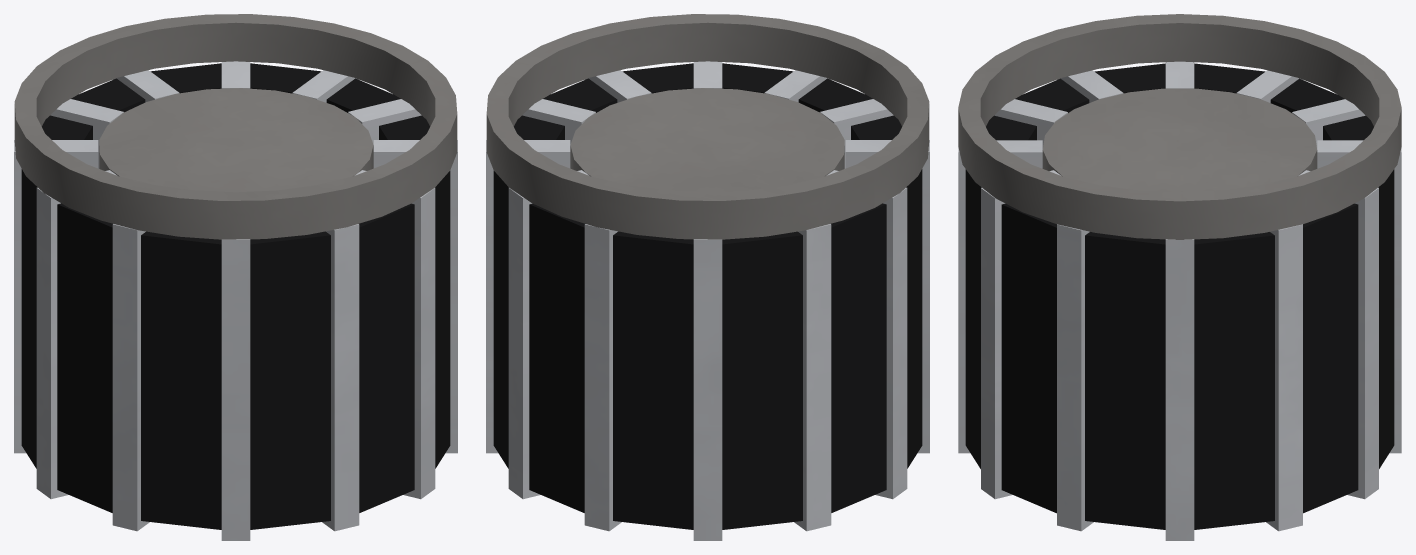
The model's file is stage16_deployable_heat_shield_s.glb.
3 renders of one model, left to right at view 1: azimuth 30°, elevation 25°; view 2: azimuth 150°, elevation 25°; view 3: azimuth 270°, elevation 25°, orthographic.
Visible parts, largest first — view 1: fabric_folded, payload_ring, ribs_folded; view 2: fabric_folded, payload_ring, ribs_folded; view 3: fabric_folded, payload_ring, ribs_folded.
Boxes of the visible parts, x1,y1,x2,y2 form: fabric_folded: [21, 63, 450, 529]; payload_ring: [14, 14, 457, 239]; ribs_folded: [14, 61, 457, 540]; fabric_folded: [493, 63, 922, 529]; payload_ring: [486, 14, 929, 239]; ribs_folded: [486, 61, 929, 540]; fabric_folded: [965, 63, 1394, 529]; payload_ring: [958, 14, 1401, 239]; ribs_folded: [958, 61, 1401, 540].
Size of the model in its own units: 0.625 by 0.6 by 0.625.
Materials: 4 (3 with a texture image).
